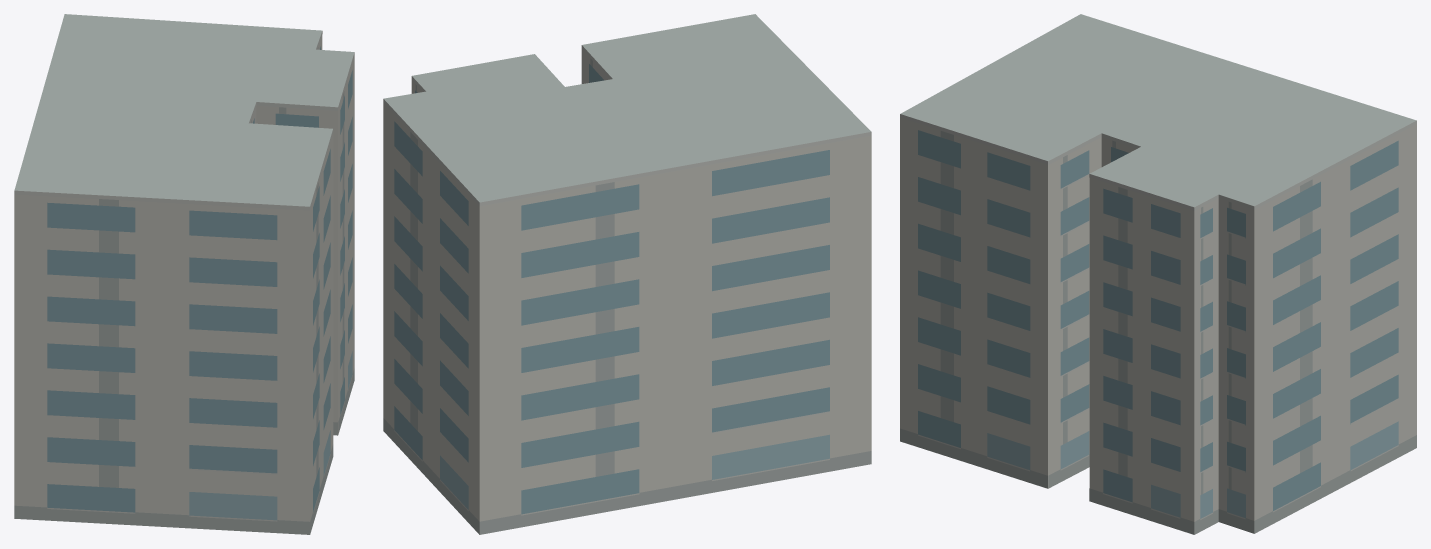
File: survey-upis-32573821.glb
3 renders of one model, left to right at view 1: azimuth 30°, elevation 25°; view 2: azimuth 150°, elevation 25°; view 3: azimuth 270°, elevation 25°, orthographic.
Parts seen in each view (by area): view 1: survey-upis-32573821.tmp; view 2: survey-upis-32573821.tmp; view 3: survey-upis-32573821.tmp.
Boxes of the visible parts, x1,y1,x2,y2 form: survey-upis-32573821.tmp: (14, 14, 354, 534); survey-upis-32573821.tmp: (383, 14, 871, 534); survey-upis-32573821.tmp: (900, 14, 1416, 534).
Size of the model in its own units: 27.04 by 21.35 by 30.53.
